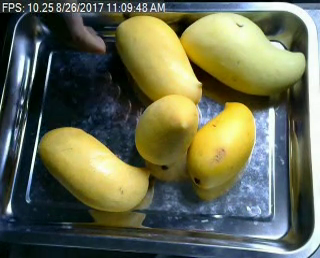Mango: (179, 10, 307, 92), (33, 124, 149, 213), (112, 13, 203, 106), (185, 100, 259, 196), (133, 95, 195, 165)
